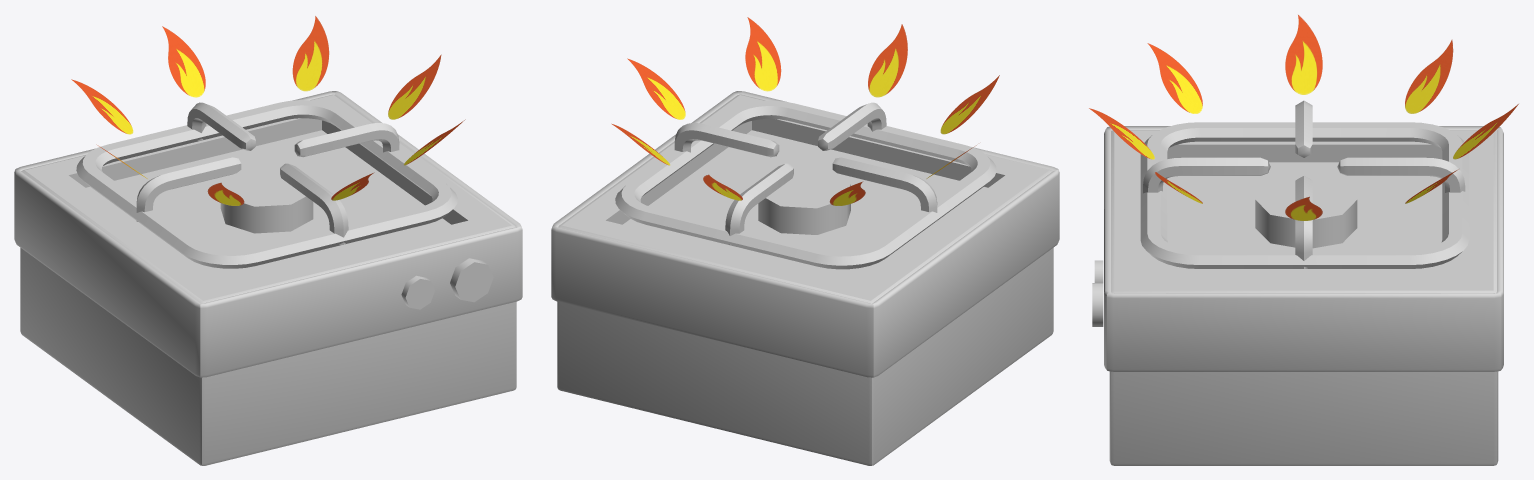
The model's file is Stove.fbx.
3 views of the same model, side by side, from view 1: azimuth 30°, elevation 25°; view 2: azimuth 150°, elevation 25°; view 3: azimuth 270°, elevation 25° (orthographic). The views are drawn at different scales.
Visible parts, largest first — view 1: SM_Stove, SM_Flame; view 2: SM_Stove, SM_Flame; view 3: SM_Stove, SM_Flame.
Boxes of the visible parts, <box> form: SM_Stove: <box>14,91,522,465</box>; SM_Flame: <box>71,16,465,205</box>; SM_Stove: <box>551,91,1059,465</box>; SM_Flame: <box>611,17,999,205</box>; SM_Stove: <box>1092,100,1503,465</box>; SM_Flame: <box>1089,15,1518,220</box>.
Size of the model in its own units: 108 by 77.35 by 108.
